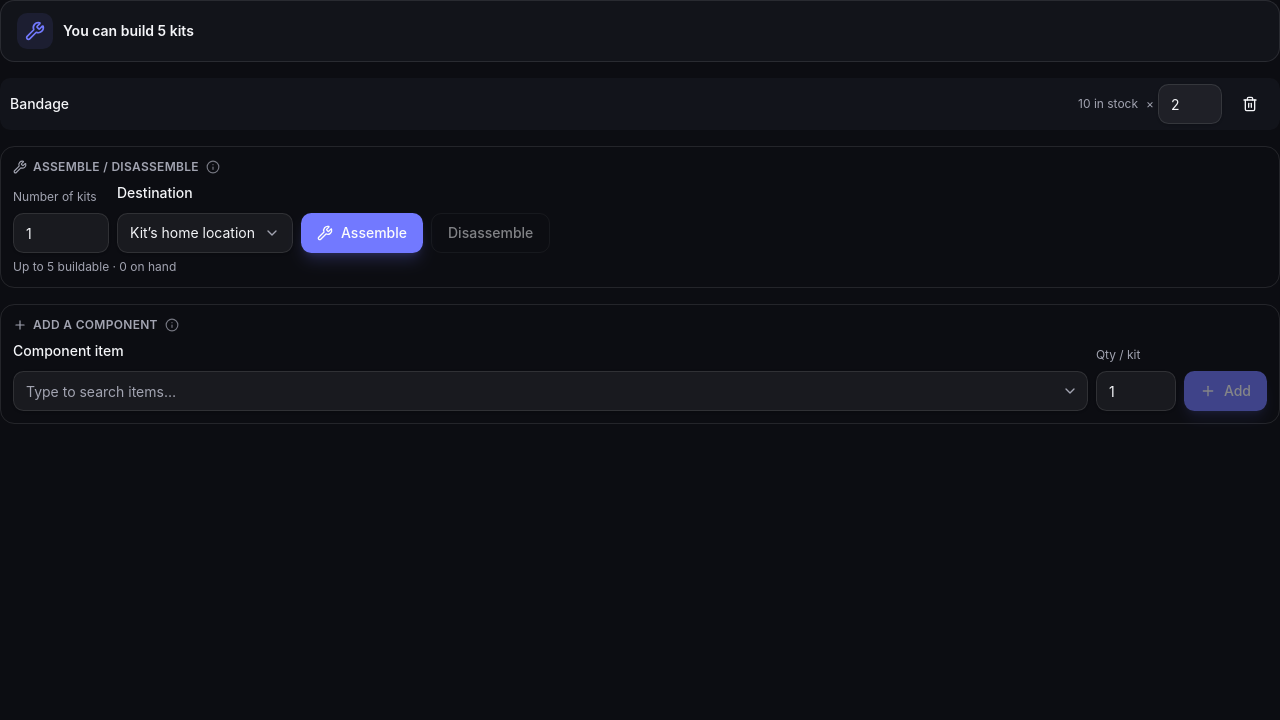
Test case: KitEditor — assemble / disassemble (v2) › assembles the entered count and gates the button by the buildable ceiling
Replace the text in the number field with test id "kit-build-qty" with "3" at (61, 233), box [13,213,109,253]
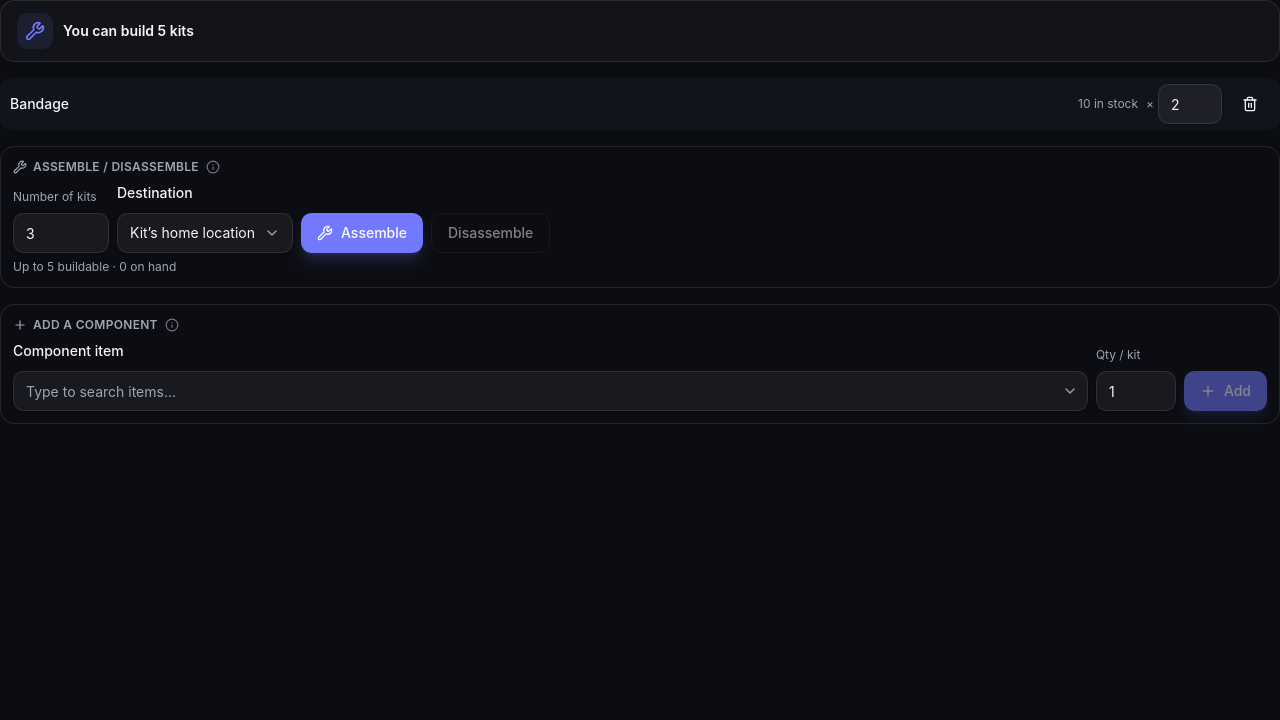
Click the button with test id "assemble-kit" at (362, 233), box [301,213,423,253]
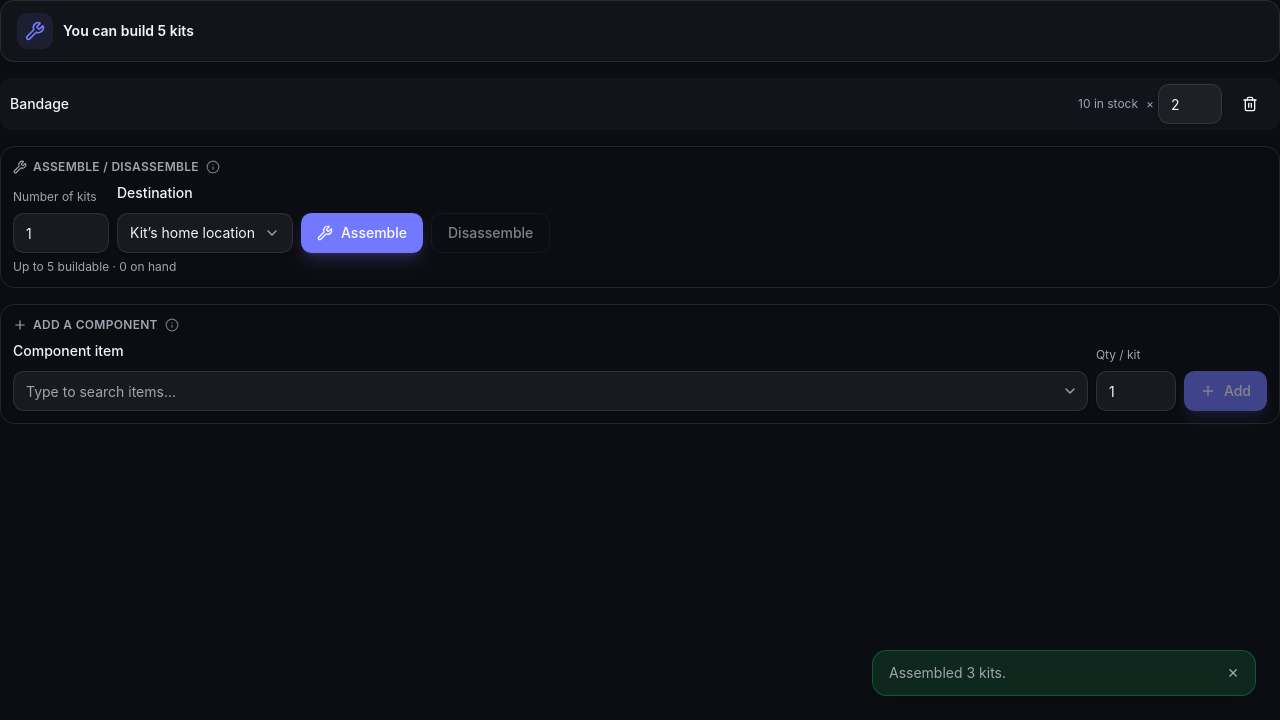
Expected: the number field with test id "kit-build-qty" holds "1"
Note: Above the ceiling the Assemble button is disabled.
Replace the text in the number field with test id "kit-build-qty" with "6" at (61, 233), box [13,213,109,253]
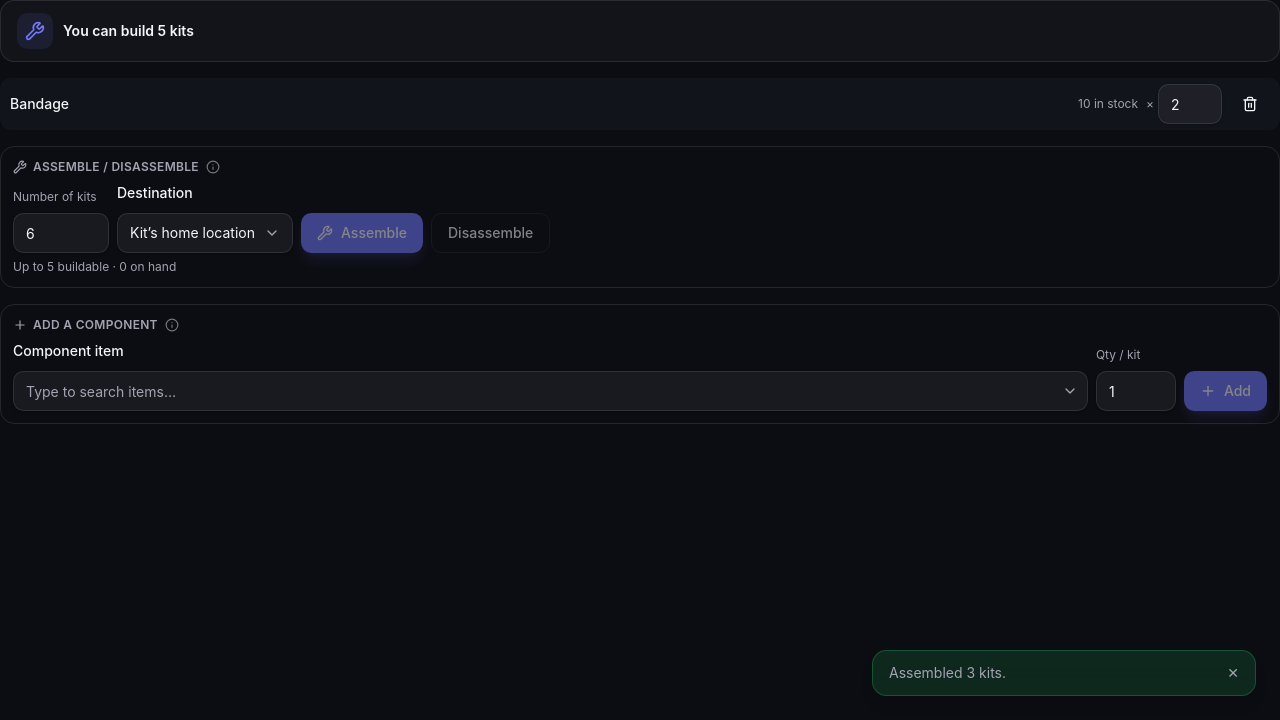
Expected: the button with test id "assemble-kit" is disabled, [301,213,423,253]
